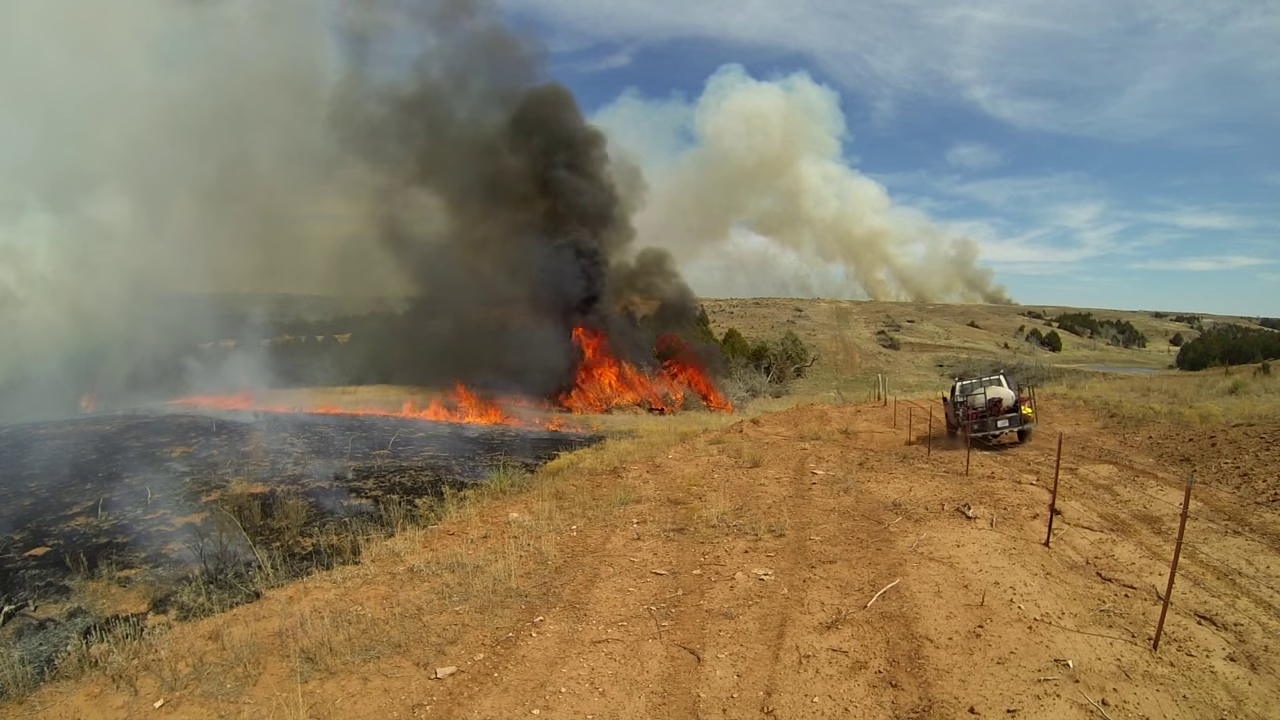forest_fire: (167, 327, 732, 428)
